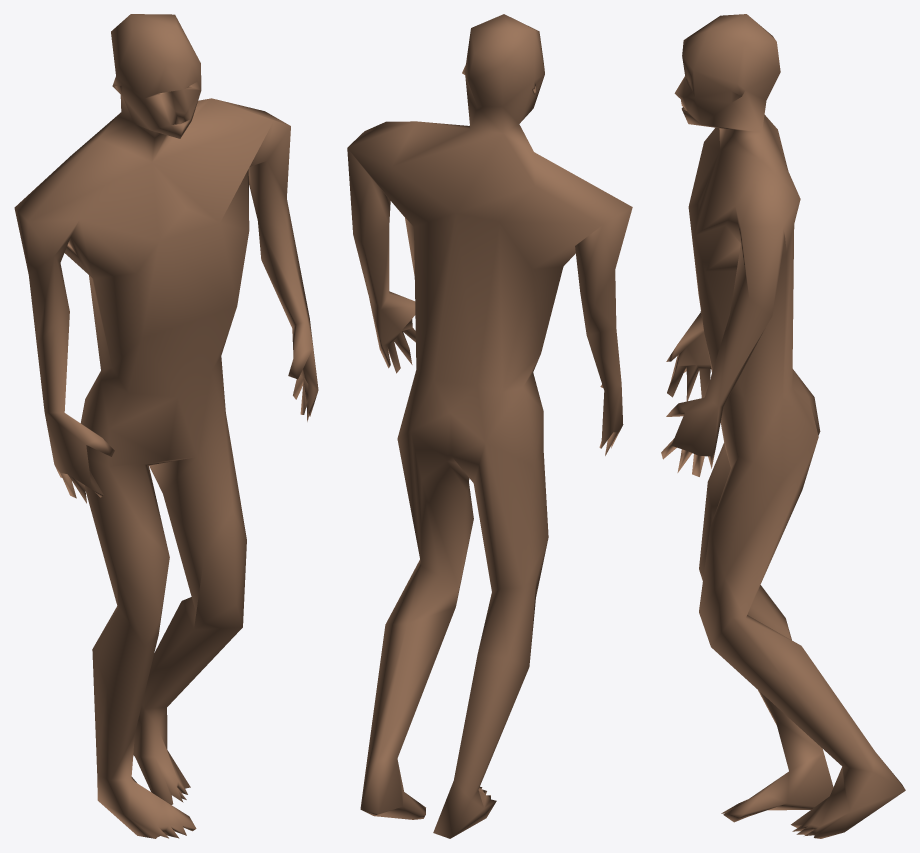
The model's file is obs_000050.obj.
3 renders of one model, left to right at view 1: azimuth 30°, elevation 25°; view 2: azimuth 150°, elevation 25°; view 3: azimuth 270°, elevation 25°, orthographic. The views are drawn at different scales.
Visible parts, largest first — view 1: 1-base_1-base.008; view 2: 1-base_1-base.008; view 3: 1-base_1-base.008.
Boxes of the visible parts, <box> form: 1-base_1-base.008: <box>14,14,318,838</box>; 1-base_1-base.008: <box>347,14,632,838</box>; 1-base_1-base.008: <box>661,14,905,838</box>.
Bounding box in the file's own units: 0.4473 × 1.27 × 0.3564.
